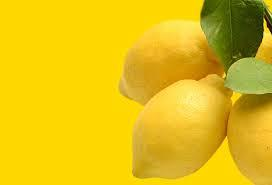lemon: (132, 73, 232, 179), (118, 21, 225, 105), (226, 94, 272, 185)
